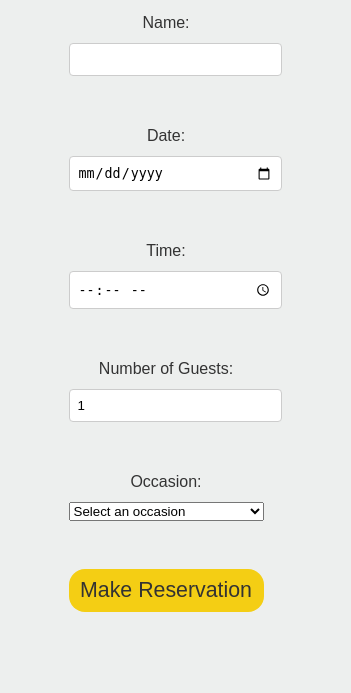
Scenario: ReservationForm › displays error message on API failure
Type "John Doe" into the field labelled "Name:" at coordinates (175, 60), box [68,43,282,76]
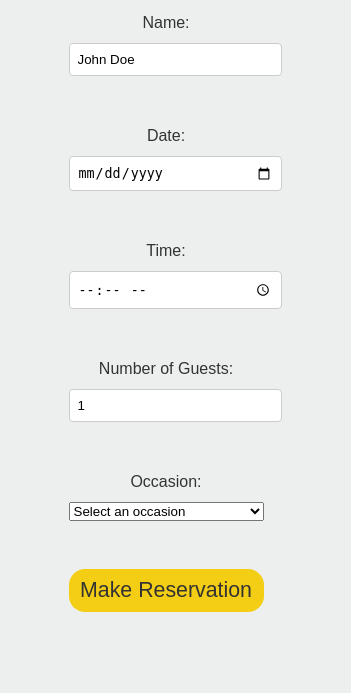
Type "2023-06-01" into the date field labelled "Date:" at coordinates (175, 174), box [68,156,282,191]
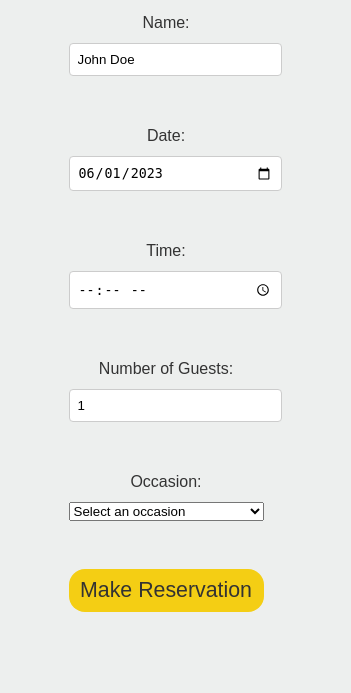
Type "19:00" into the time field labelled "Time:" at coordinates (175, 290), box [68,271,282,309]
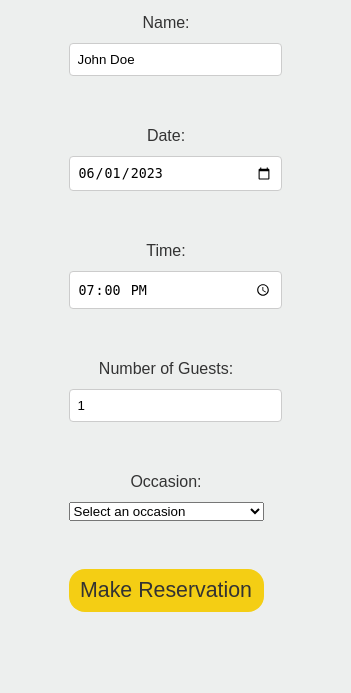
Replace the text in the number field labelled "Number of Guests:" with "4" at coordinates (175, 406), box [68,389,282,422]
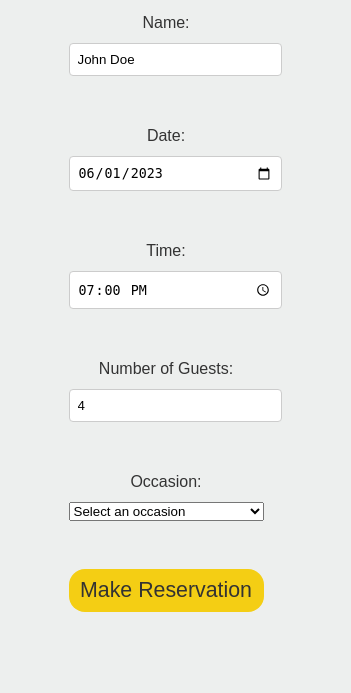
Click the button "Make Reservation" at coordinates (166, 591), box [68,569,264,612]
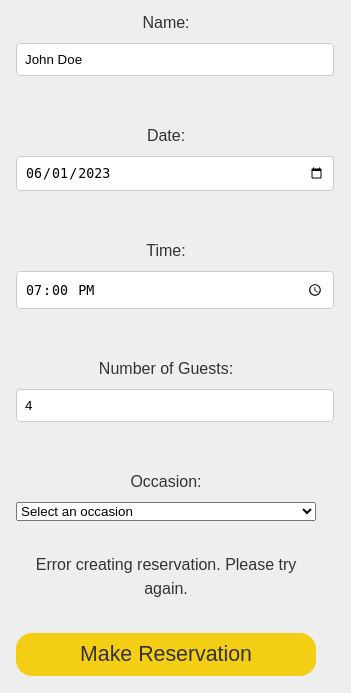
Expected: the text "Error creating reservation. Please try again." is shown, [16,553,316,601]
